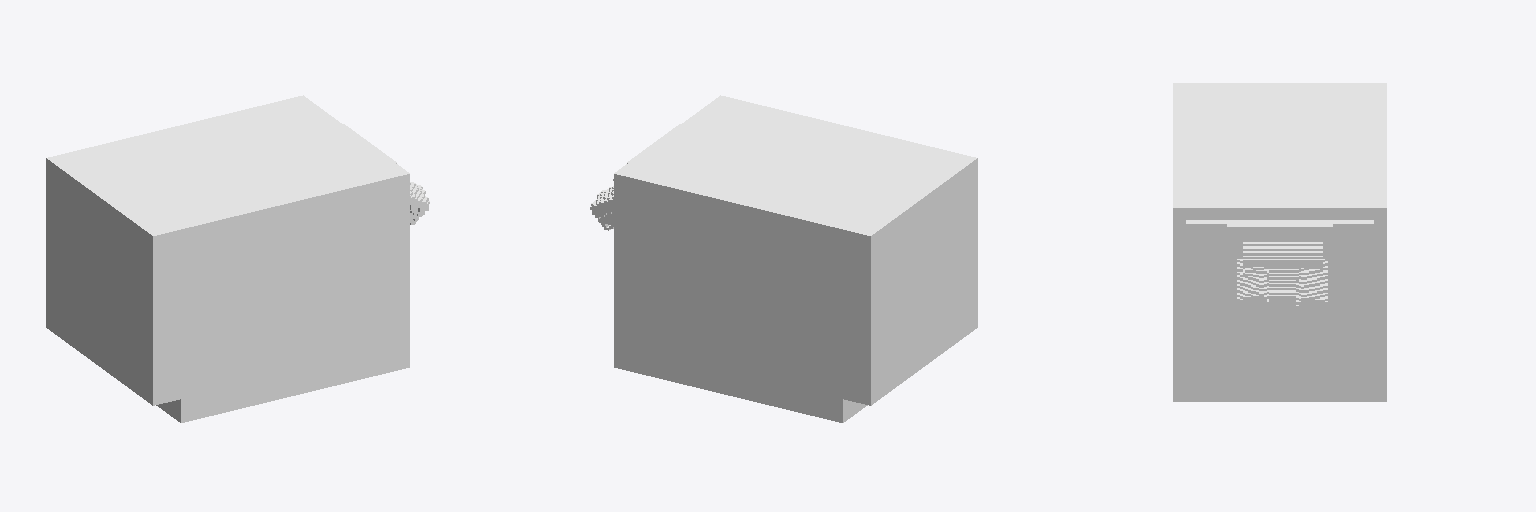
Rendered from body.obj.
The picture shows the model from 3 angles: view 1: azimuth 30°, elevation 25°; view 2: azimuth 150°, elevation 25°; view 3: azimuth 270°, elevation 25°; orthographic projection.
Visible parts, largest first — view 1: object 1; view 2: object 1; view 3: object 1.
Boxes of the visible parts, x1=… form: object 1: x1=46, y1=95, x2=429, y2=422; object 1: x1=590, y1=95, x2=977, y2=422; object 1: x1=1173, y1=83, x2=1386, y2=401.
Size of the model in its own units: 13.5 by 8 by 8.